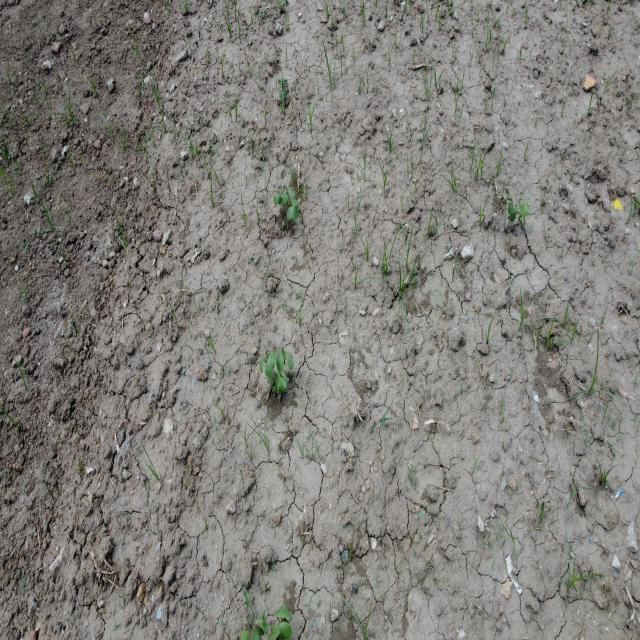seedling_s3: (273, 622, 291, 640), (273, 603, 292, 619), (265, 352, 277, 377), (258, 610, 269, 635), (275, 372, 286, 391), (259, 350, 268, 373), (276, 348, 284, 372), (287, 205, 299, 220), (285, 351, 294, 370), (520, 204, 530, 217), (281, 186, 288, 204), (281, 370, 289, 384), (510, 204, 518, 217), (288, 185, 295, 199), (519, 196, 532, 203), (274, 194, 282, 205), (279, 89, 286, 100), (291, 197, 298, 208), (508, 202, 514, 214), (278, 78, 283, 88), (282, 348, 286, 359)
